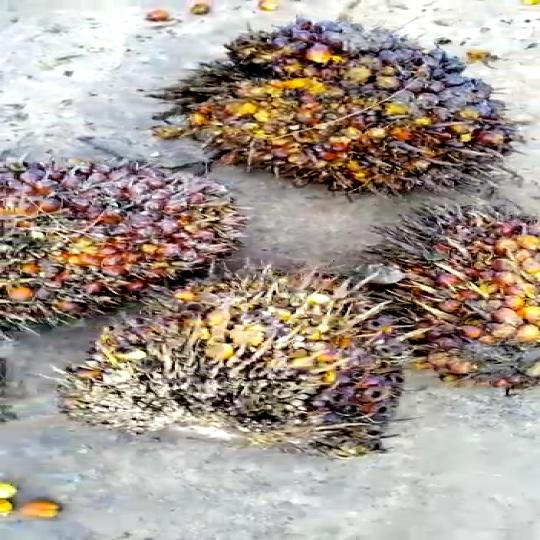masak: (49, 261, 431, 470), (148, 14, 540, 192), (0, 134, 249, 344), (343, 200, 540, 381)
